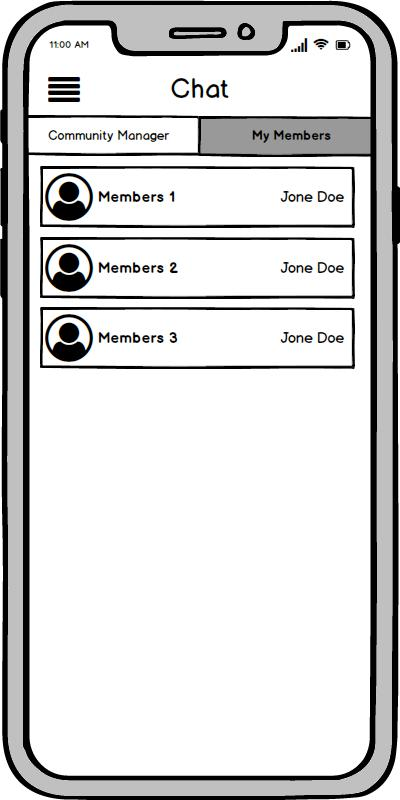Icon: (46, 173, 95, 222), (46, 314, 95, 363), (46, 244, 94, 293), (47, 76, 83, 105)
Text: (170, 76, 230, 101), (97, 329, 178, 345), (97, 189, 176, 204), (97, 261, 179, 275), (279, 330, 345, 345), (280, 260, 345, 275), (280, 190, 345, 205)
TextButton: (200, 116, 371, 156), (29, 116, 200, 156)
Toolbar: (30, 58, 371, 116)
